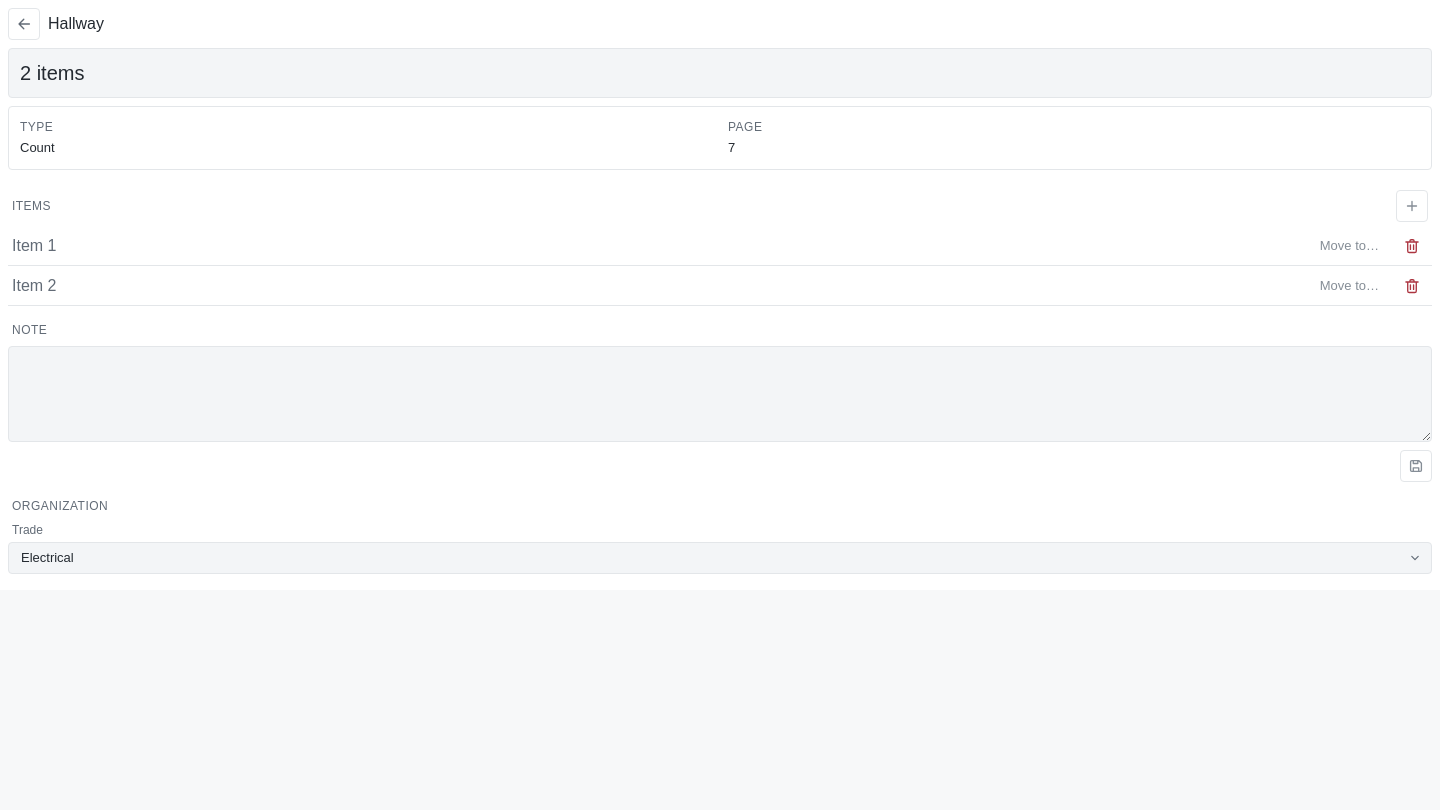
Test case: MeasurementDetails › disables transfers when no other count is available and respects blocked editing
Expected: the button with aria-label "Move item 1 to another count" is disabled, [1307,230,1392,262]
Click the button named "Add items": (1412,206) [1396,190,1428,222]
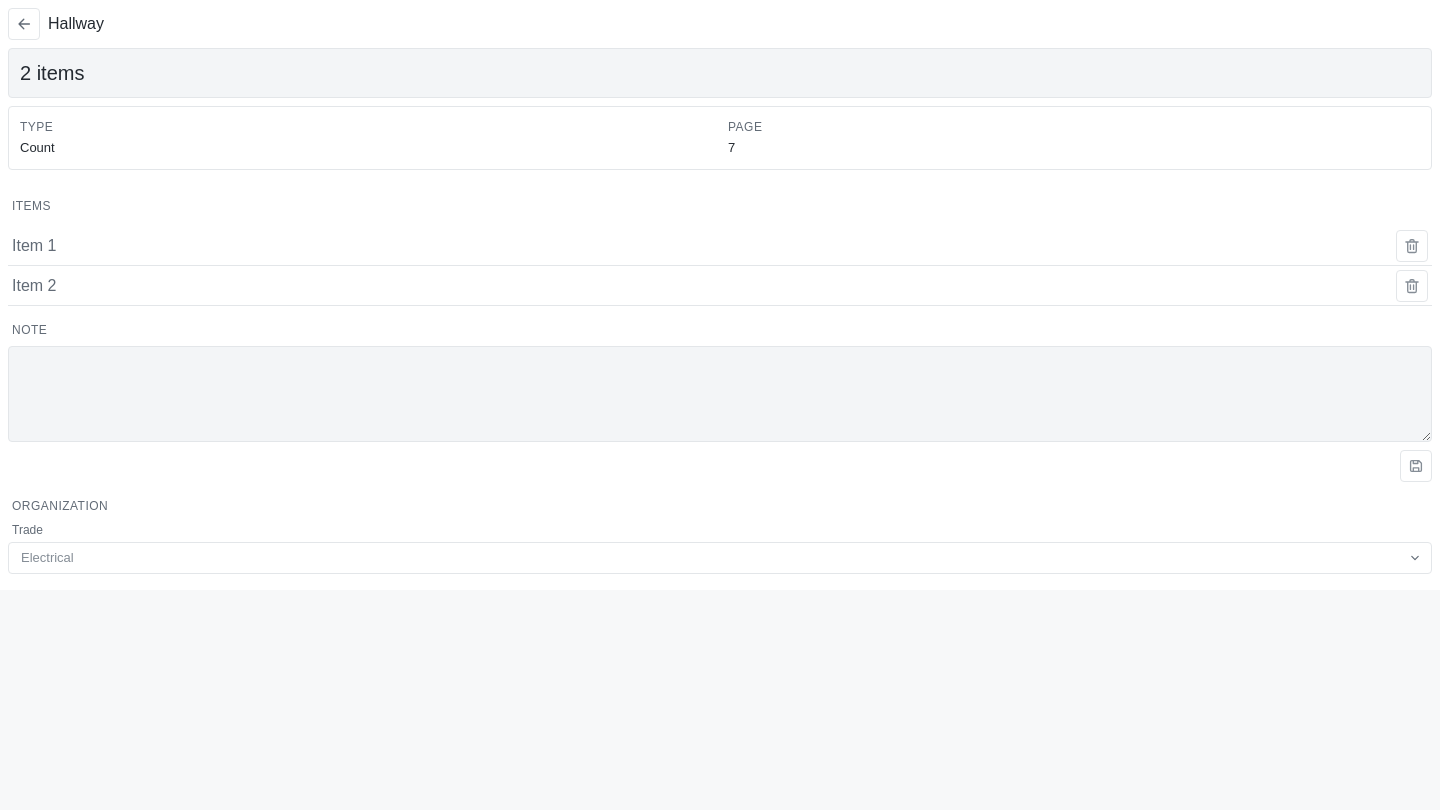
Expected: the button named "Delete item 1" is disabled, [1396,230,1428,262]
